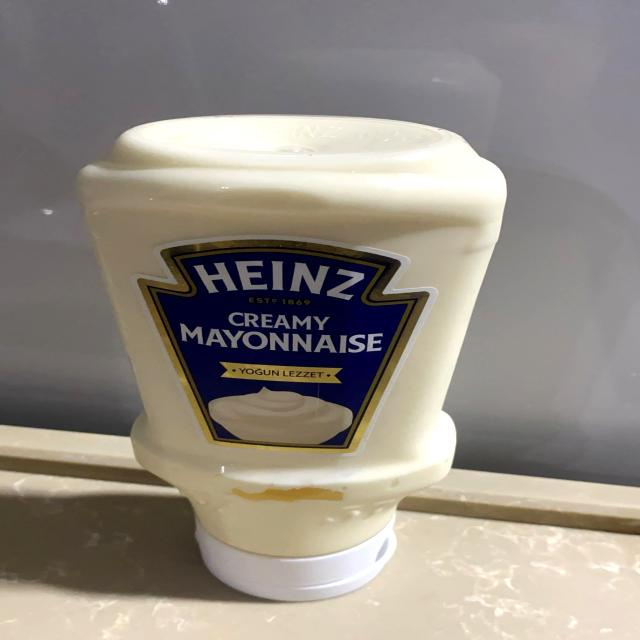mayonnaise: (71, 115, 518, 601)
